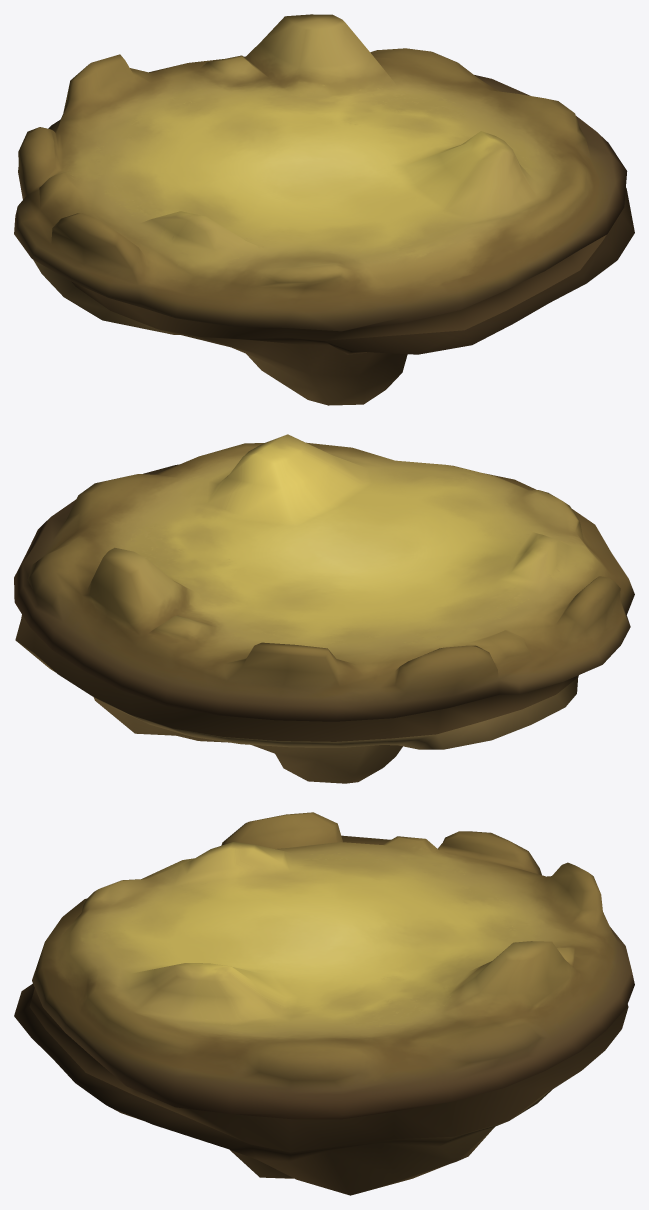
The model's file is MS_Deaert01_Default02.fbx.
3 views of the same model, one above another, from view 1: azimuth 30°, elevation 25°; view 2: azimuth 150°, elevation 25°; view 3: azimuth 270°, elevation 25° (orthographic).
Parts seen in each view (by area): view 1: MS_Desert01_Default02; view 2: MS_Desert01_Default02; view 3: MS_Desert01_Default02.
Part boxes in pixels (<box>): MS_Desert01_Default02: <box>14,14,634,405</box>; MS_Desert01_Default02: <box>14,434,634,783</box>; MS_Desert01_Default02: <box>14,812,634,1195</box>.
Bounding box in the file's own units: 7922 × 3682 × 7609.
